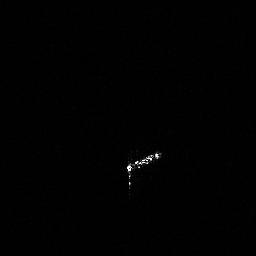ship: (127, 152, 160, 172)
